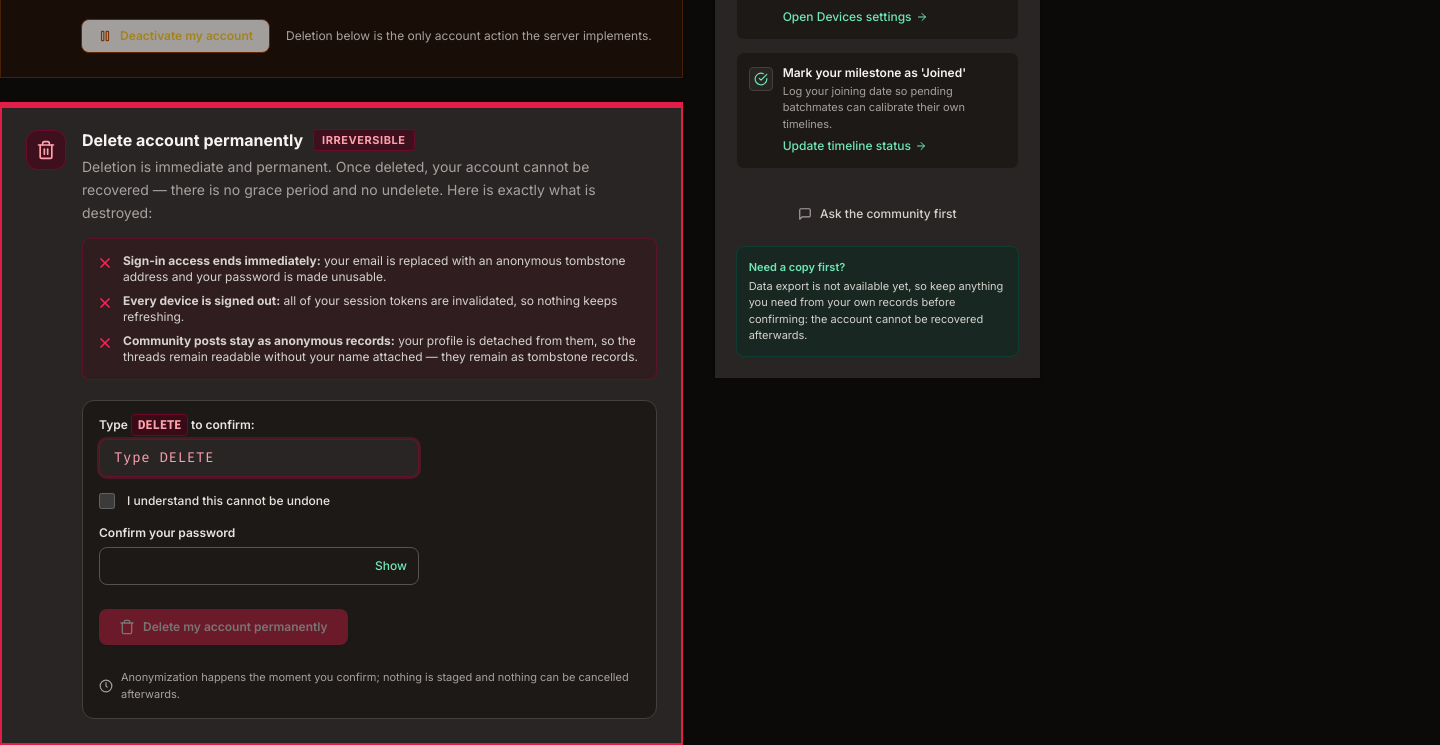
Test: SettingsDangerPage (9.5 Task 7) › surfaces the generic failure toast and stays on the page (abort path intact)
(page scrolled)
Check: the button with test id "delete-account-btn" is shown, box left=99, top=609, right=348, bottom=645
Type "DELETE" into the field with test id "delete-confirm-input".
click(259, 458); type("DELETE")  # box left=99, top=439, right=419, bottom=477
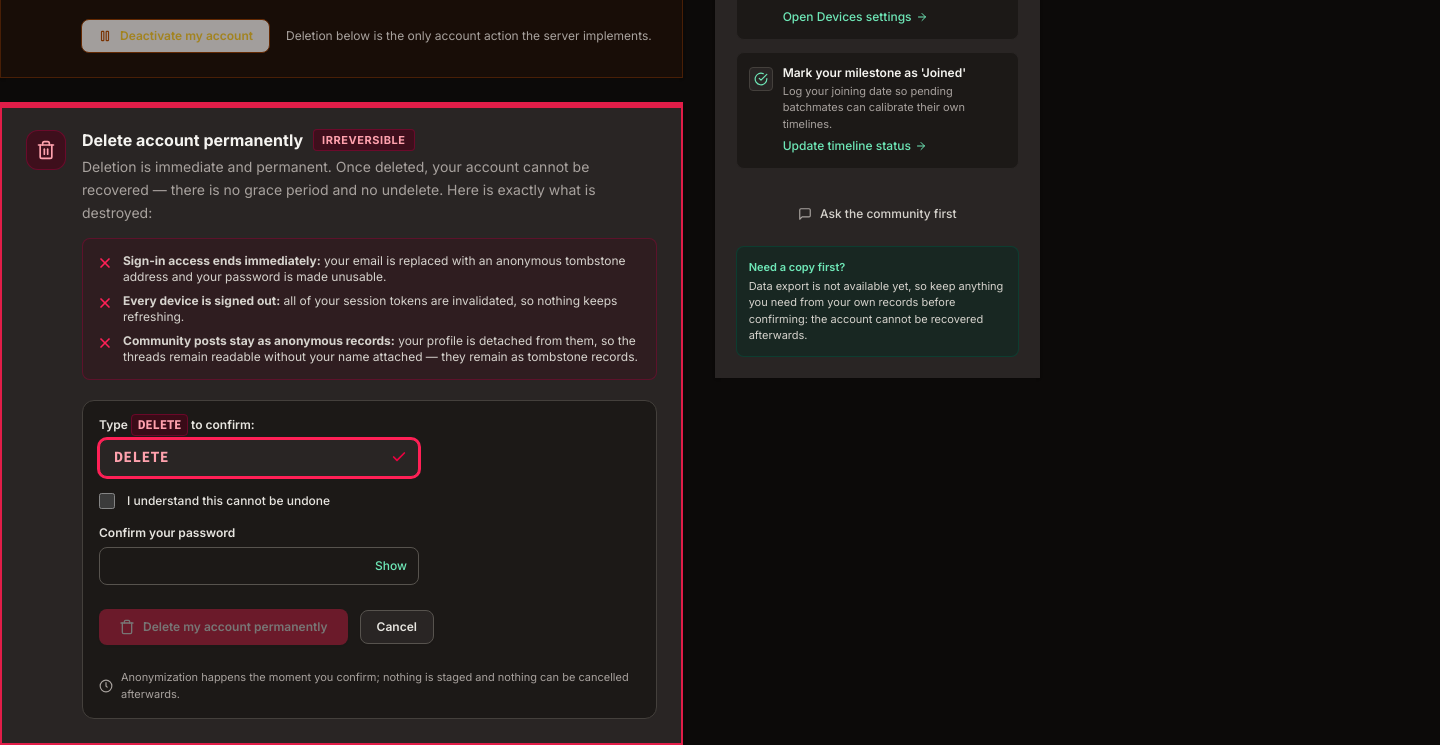
Click the checkbox with test id "delete-understands".
click(107, 501)  # box left=99, top=493, right=115, bottom=509
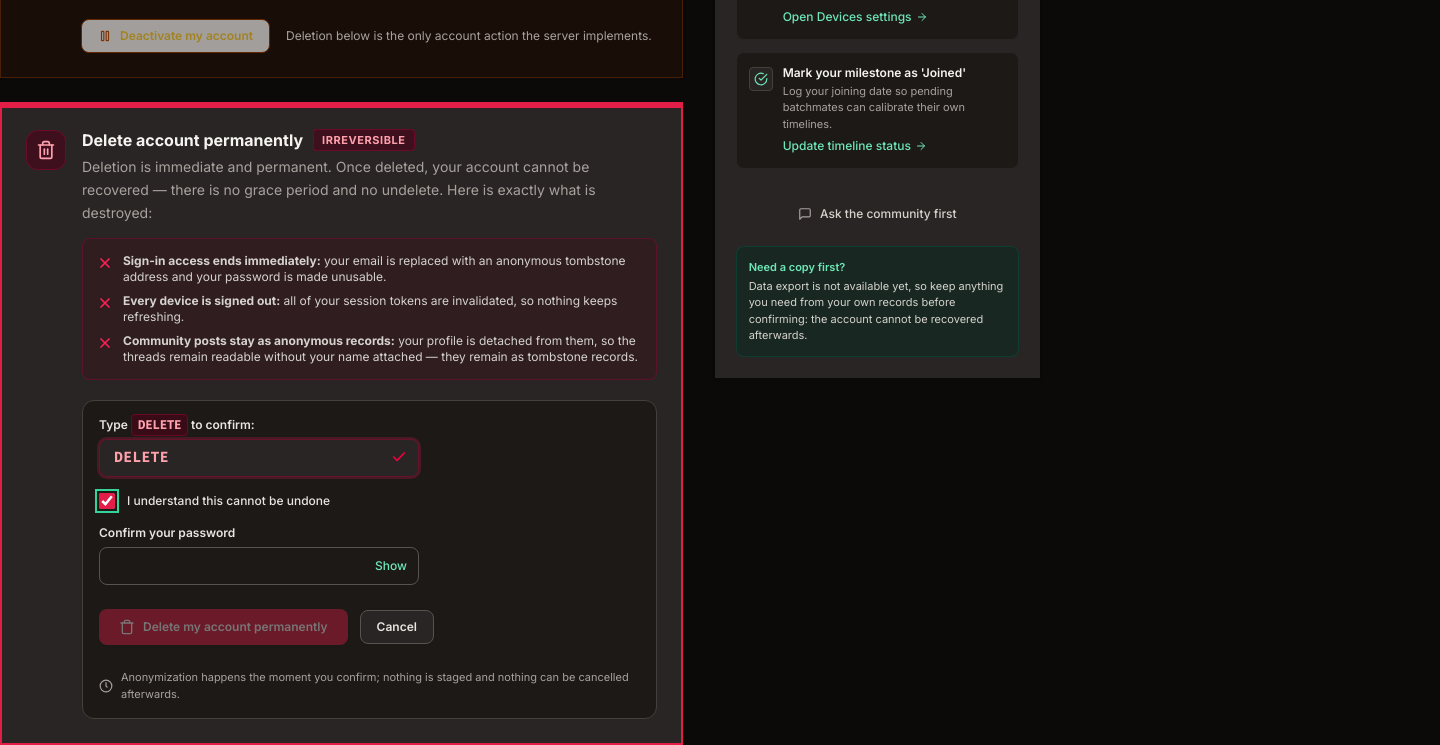
Type "wrong!" into the password field with test id "delete-password".
click(259, 566); type("wrong!")  # box left=99, top=547, right=419, bottom=585
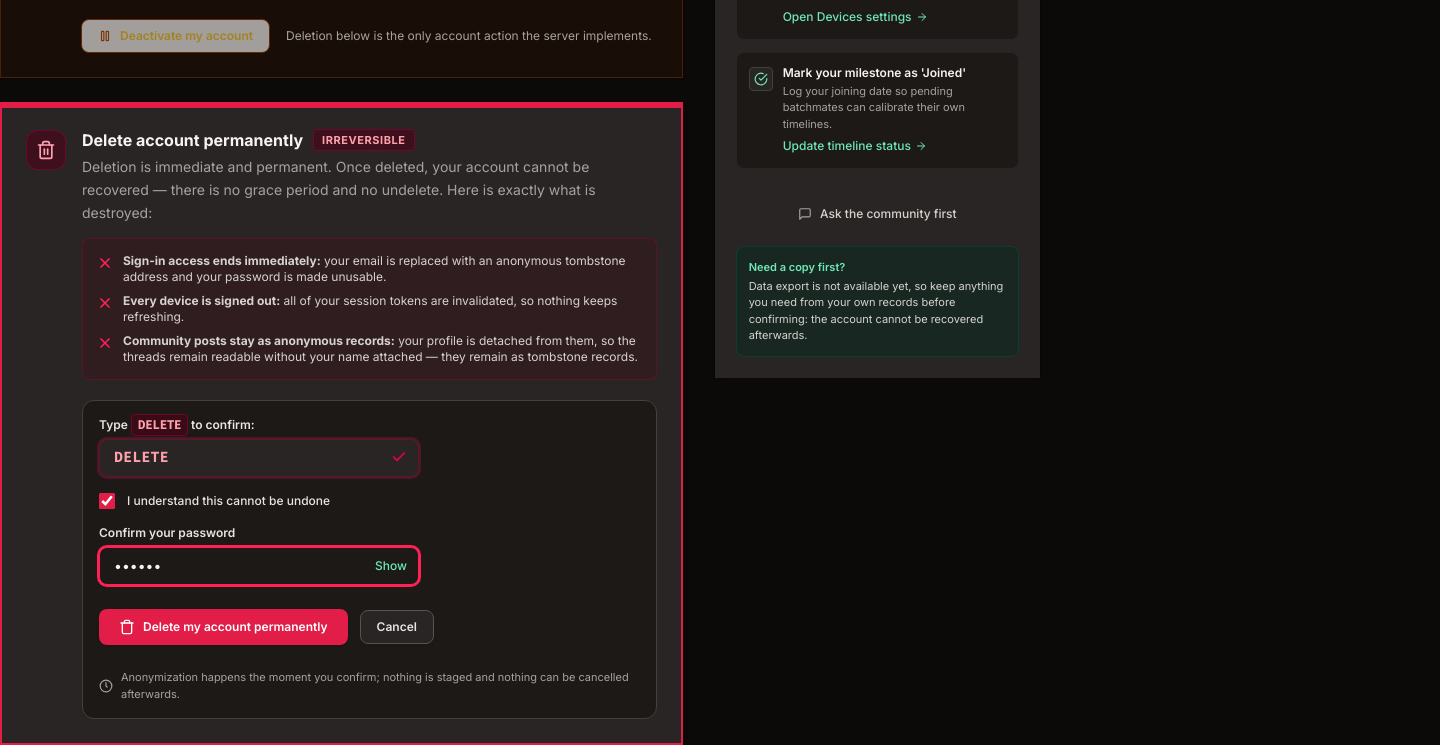
Click the button with test id "delete-account-btn".
click(223, 627)  # box left=99, top=609, right=348, bottom=645
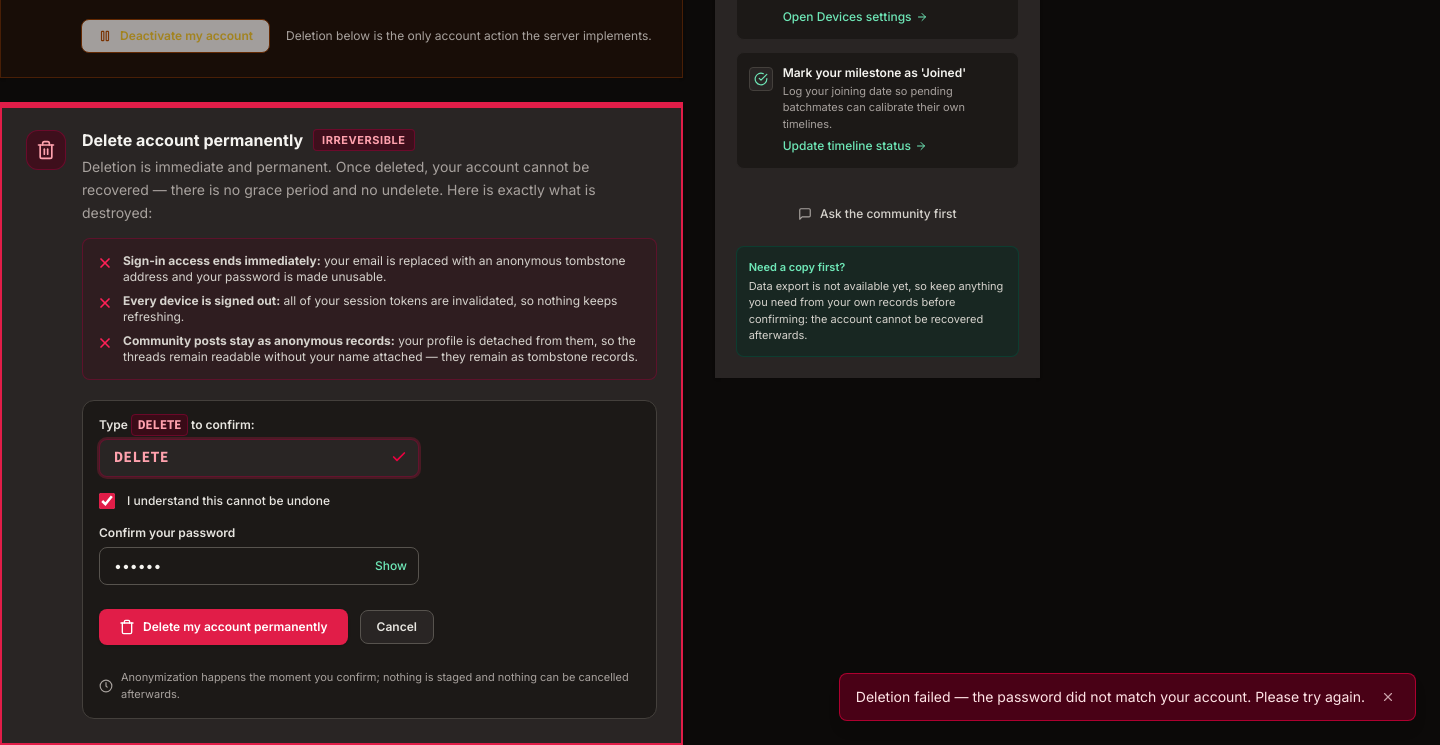
Check: the button with test id "delete-account-btn" is enabled, box left=99, top=609, right=348, bottom=645
Check: the message shows "did not match your account", box left=856, top=688, right=1365, bottom=705
Note: The abort path clears every step.
Click the button with test id "delete-abort".
click(397, 627)  # box left=360, top=610, right=434, bottom=644
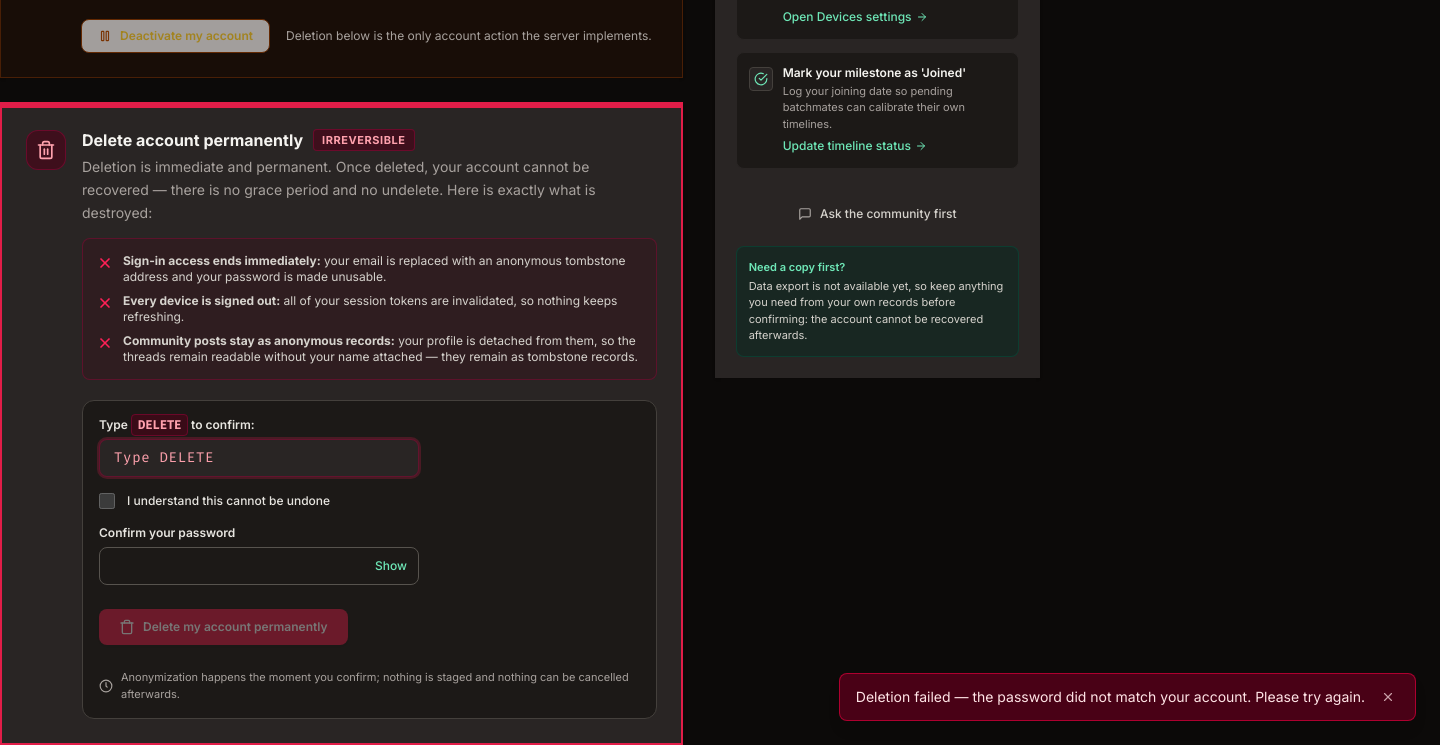
Check: the checkbox with test id "delete-understands" is not checked, box left=99, top=493, right=115, bottom=509
Check: the field with test id "delete-confirm-input" is empty, box left=99, top=439, right=419, bottom=477
Check: the password field with test id "delete-password" is empty, box left=99, top=547, right=419, bottom=585
